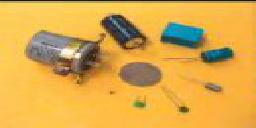Electrolytic-Capacitor: (26, 28, 111, 84), (98, 13, 145, 47), (158, 47, 244, 65), (159, 20, 208, 45), (161, 84, 191, 120), (179, 72, 227, 91), (130, 92, 152, 113)
